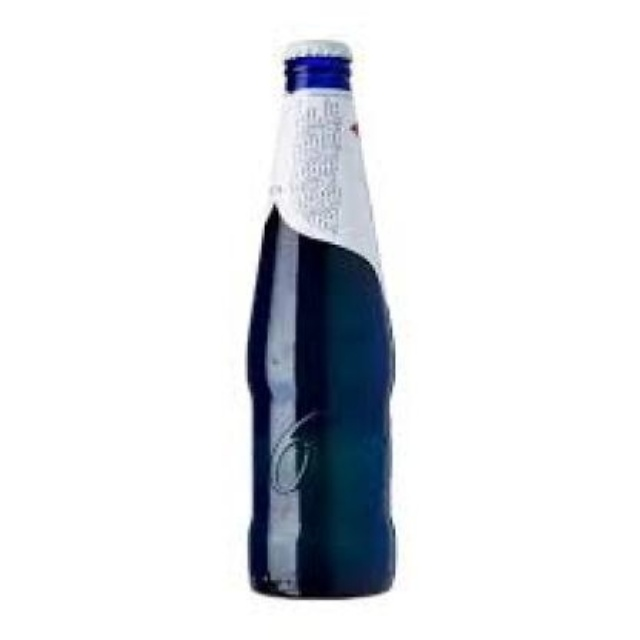trash: (248, 40, 394, 595)
